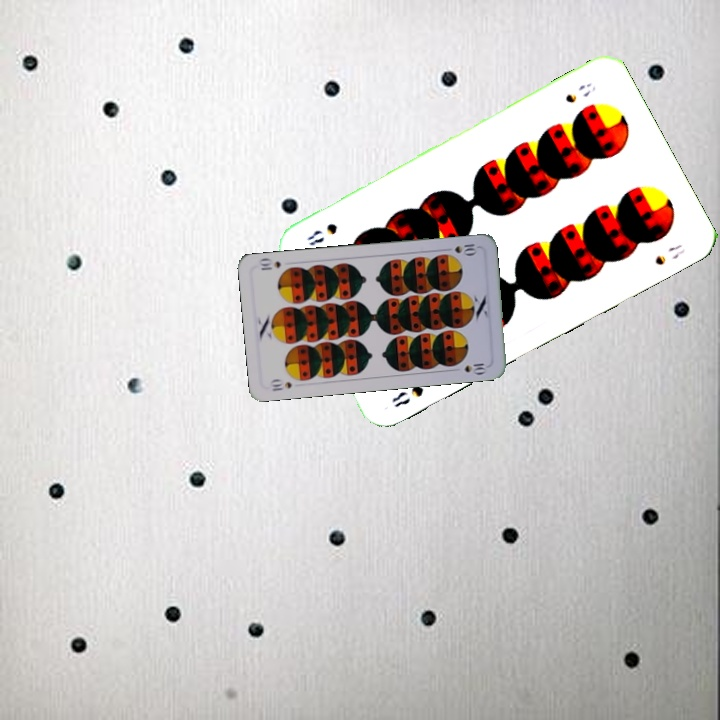S10: (450, 239, 480, 257), (266, 376, 294, 394)
S8: (387, 381, 426, 410), (561, 79, 599, 106)
